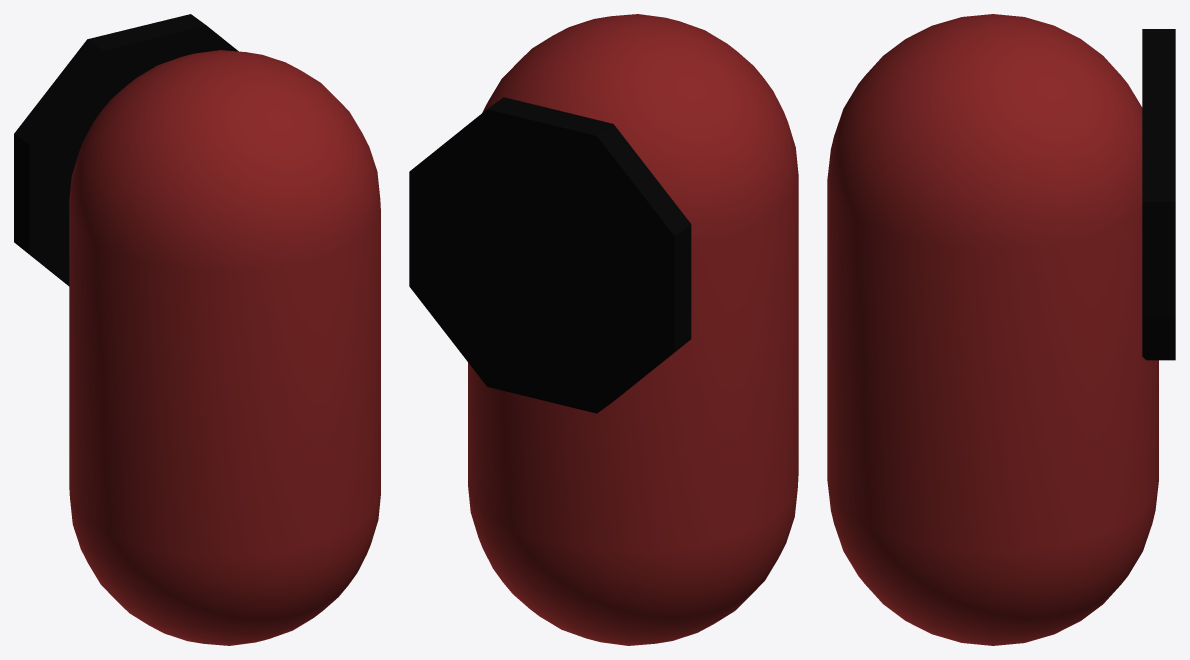
Rendered from StopSign.fbx.
3 renders of one model, left to right at view 1: azimuth 30°, elevation 25°; view 2: azimuth 150°, elevation 25°; view 3: azimuth 270°, elevation 25°, orthographic. The views are drawn at different scales.
Parts seen in each view (by area): view 1: pCylinder9; view 2: pCylinder9; view 3: pCylinder9.
Part boxes in pixels (box(x1,y1,x2,y2)): pCylinder9: box(14, 14, 380, 645); pCylinder9: box(409, 14, 798, 645); pCylinder9: box(827, 14, 1175, 645).
Bounding box in the file's own units: 100 × 200 × 105.
